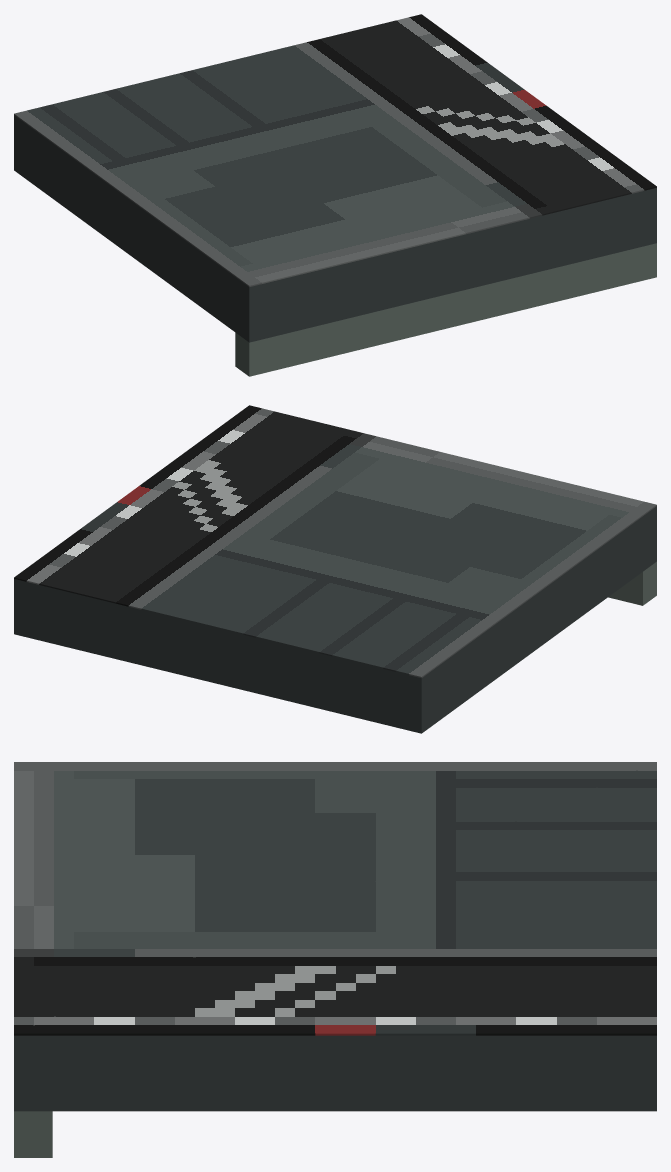
Rendered from CMU3DInteriorVehicleVanFrontRoof2.glb.
The picture shows the model from 3 angles, top to bottom: view 1: azimuth 30°, elevation 25°; view 2: azimuth 150°, elevation 25°; view 3: azimuth 270°, elevation 25°; orthographic projection. The views are drawn at different scales.
Visible parts, largest first — view 1: overhead armor source finish, overhead armor, inner roof rib; view 2: overhead armor source finish, overhead armor, inner roof rib; view 3: overhead armor source finish, overhead armor, inner roof rib.
Part boxes in pixels (x1,y1,x2,y2): overhead armor source finish: (14, 14, 656, 286); overhead armor: (14, 115, 656, 342); inner roof rib: (235, 243, 656, 376); overhead armor source finish: (14, 405, 656, 677); overhead armor: (14, 506, 656, 733); inner roof rib: (608, 561, 656, 605); overhead armor source finish: (14, 762, 656, 1035); overhead armor: (14, 1035, 656, 1111); inner roof rib: (14, 1111, 52, 1157).
Size of the model in its own units: 1 by 0.213 by 1.
Materials: 3 (1 with a texture image).
